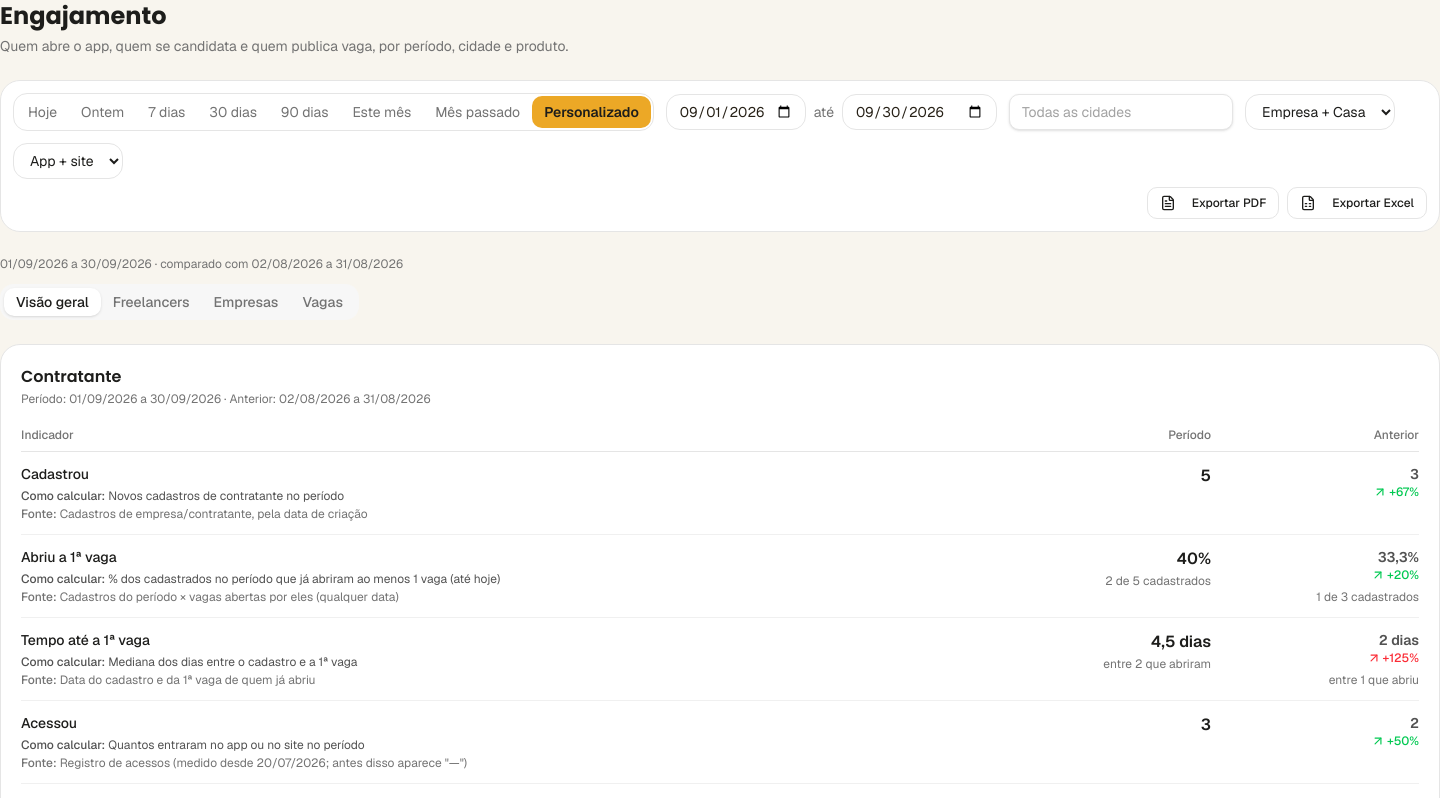
Scenario: /engajamento › personalizado com a data apagada: pede as datas, esconde os números e a URL acompanha
The image size is (1440, 798).
Clear the date field named "Data inicial" at (736, 112), box 666,94 -> 806,130
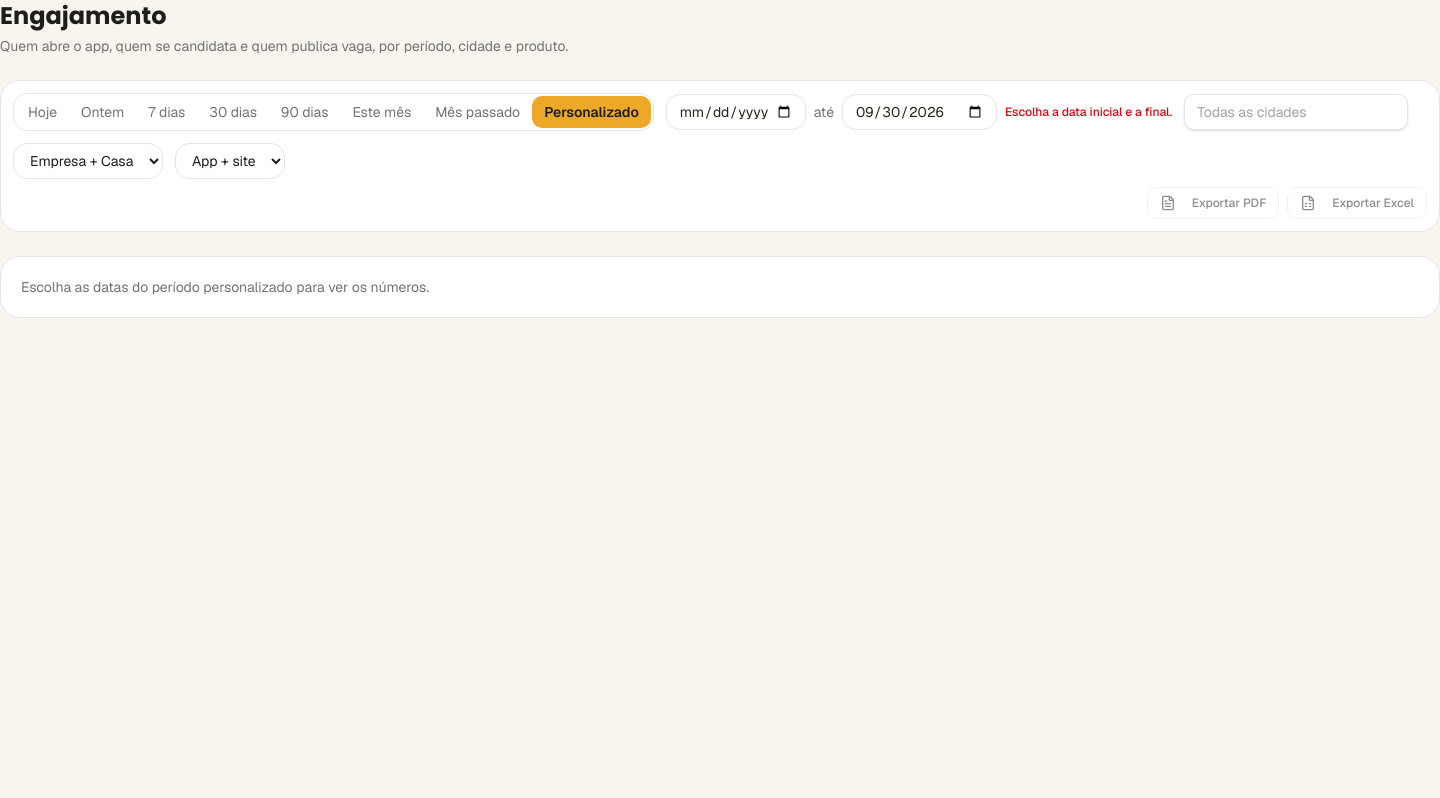
Now the text "Escolha as datas do período personalizado para ver os números." is shown, box 0,256 -> 1439,318
Now the heading "Contratante" is gone
